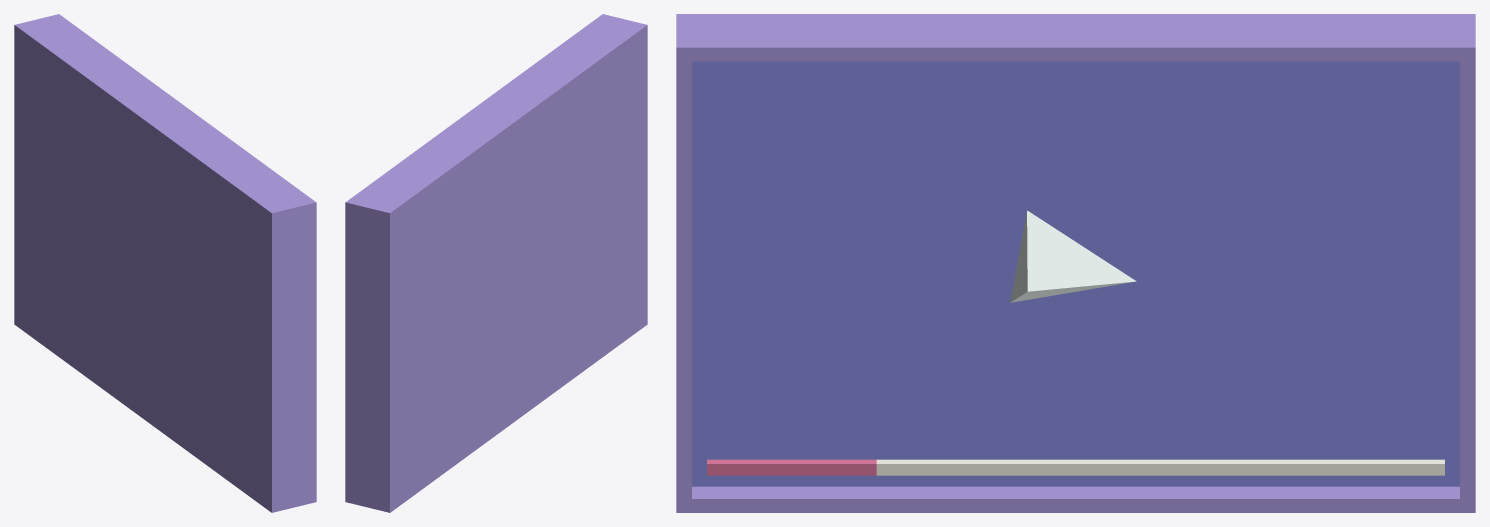
The model's file is course.glb.
The picture shows the model from 3 angles, left to right: view 1: azimuth 30°, elevation 25°; view 2: azimuth 150°, elevation 25°; view 3: azimuth 270°, elevation 25°; orthographic projection. The views are drawn at different scales.
Visible parts, largest first — view 1: Cube; view 2: Cube; view 3: Cube, Cube.001, Cone.
Boxes of the visible parts, x1=… form: Cube: x1=14, y1=14, x2=316, y2=512; Cube: x1=345, y1=14, x2=647, y2=512; Cube: x1=676, y1=14, x2=1475, y2=512; Cube.001: x1=707, y1=459, x2=1444, y2=475; Cone: x1=1010, y1=210, x2=1136, y2=302.
Bounding box in the file's own units: 0.3792 × 1.39 × 2.16.
